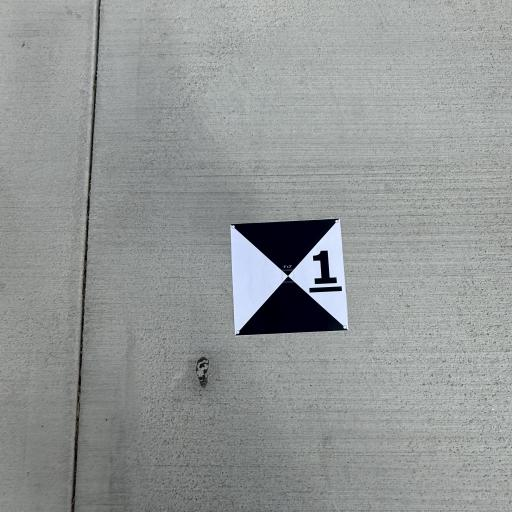target1: (222, 217, 354, 344)
